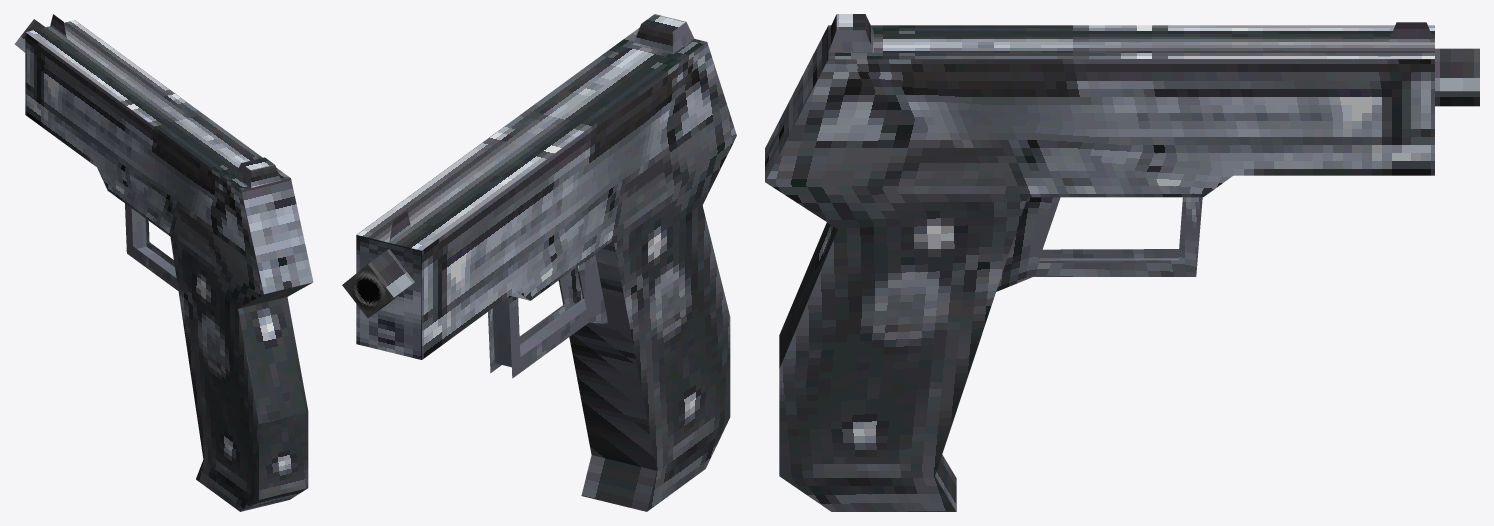
The model's file is recovered_gun_baretta_m9.glb.
The picture shows the model from 3 angles, left to right: view 1: azimuth 30°, elevation 25°; view 2: azimuth 150°, elevation 25°; view 3: azimuth 270°, elevation 25°; orthographic projection. The views are drawn at different scales.
Parts seen in each view (by area): view 1: Gun_2c614e3e93be; view 2: Gun_2c614e3e93be, Gun_379f7b5fa02f; view 3: Gun_2c614e3e93be.
Part boxes in pixels (box(x1,y1,x2,y2)): Gun_2c614e3e93be: box(14, 14, 313, 511); Gun_2c614e3e93be: box(356, 14, 736, 511); Gun_379f7b5fa02f: box(342, 264, 393, 317); Gun_2c614e3e93be: box(765, 14, 1479, 511).
Bounding box in the file's own units: 0.0285 × 0.185 × 0.2535.
Materials: 2 (2 with a texture image).
